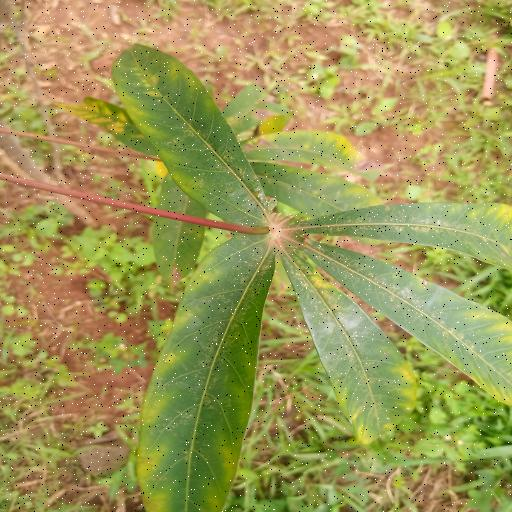Cassava_Mosaic: (103, 37, 512, 512)
